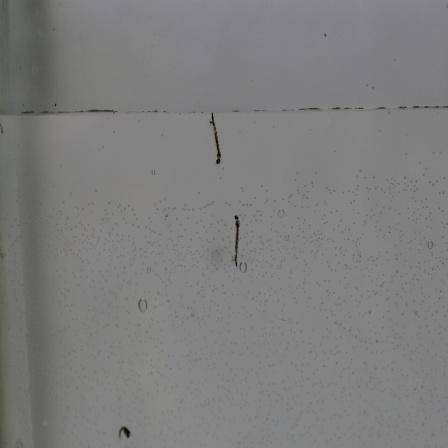Jentik-Nyamuk: (205, 110, 226, 169), (231, 211, 244, 271), (115, 421, 132, 443)
